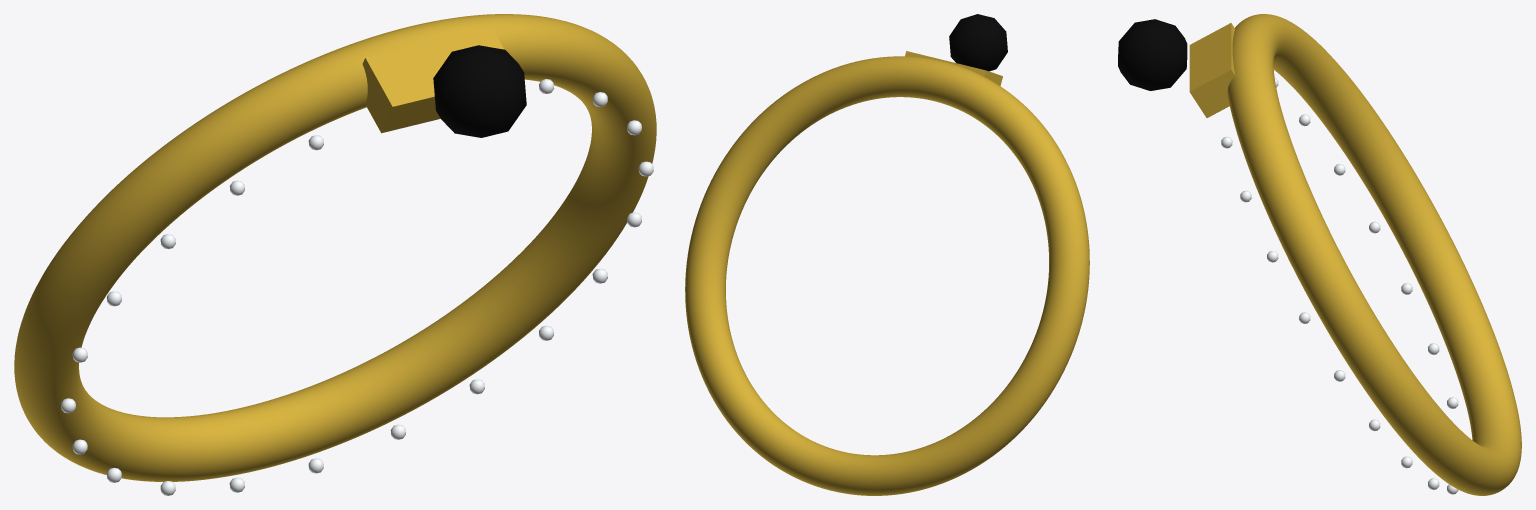
File: atlas-signet-ring.glb
The picture shows the model from 3 angles, left to right: view 1: azimuth 30°, elevation 25°; view 2: azimuth 150°, elevation 25°; view 3: azimuth 270°, elevation 25°; orthographic projection. The views are drawn at different scales.
Parts seen in each view (by area): view 1: gold_band, hero_gemstone, gold_setting; view 2: gold_band, hero_gemstone, gold_setting; view 3: gold_band, hero_gemstone, gold_setting.
Boxes of the visible parts, left/top/right/bottom form: gold_band: left=14, top=14, right=656, bottom=481; hero_gemstone: left=433, top=45, right=526, bottom=137; gold_setting: left=362, top=27, right=504, bottom=133; gold_band: left=685, top=56, right=1089, bottom=495; hero_gemstone: left=949, top=14, right=1007, bottom=71; gold_setting: left=905, top=51, right=1002, bottom=85; gold_band: left=1227, top=14, right=1521, bottom=495; hero_gemstone: left=1118, top=19, right=1187, bottom=90; gold_setting: left=1189, top=23, right=1235, bottom=117.
Bounding box in the file's own units: 2.22 × 2.03 × 1.67.
